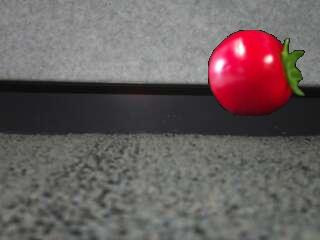Tomato: (208, 31, 304, 117)
